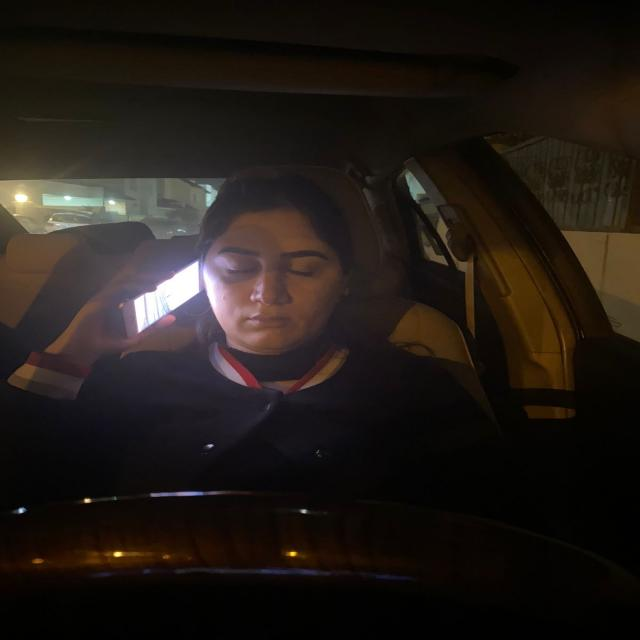mobile: (118, 250, 207, 350)
person: (210, 191, 334, 346)
